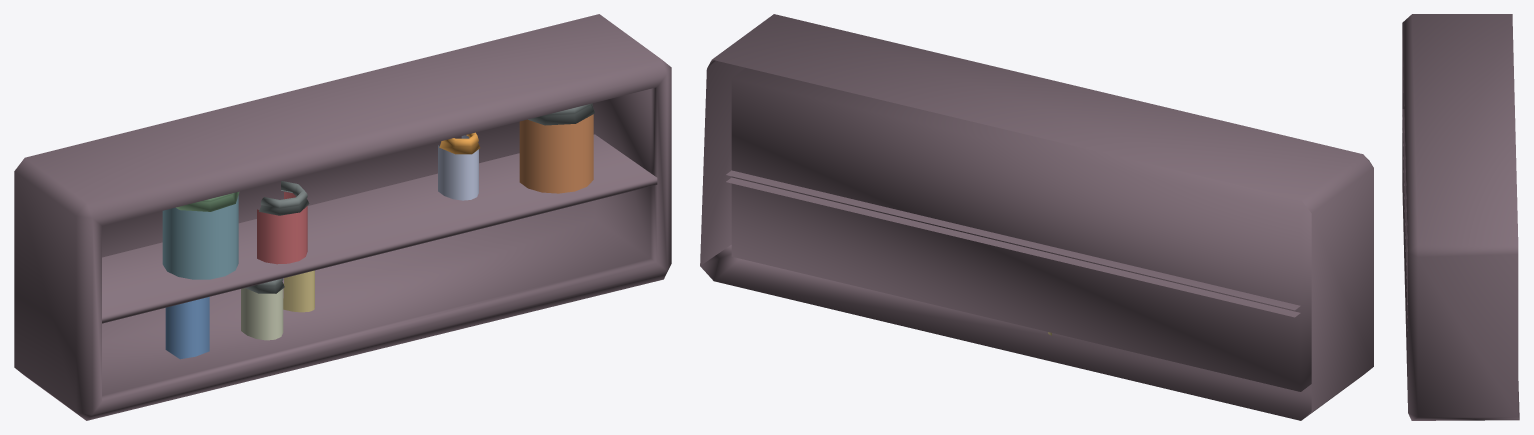
File: Repisa.glb
3 renders of one model, left to right at view 1: azimuth 30°, elevation 25°; view 2: azimuth 150°, elevation 25°; view 3: azimuth 270°, elevation 25°, orthographic. The views are drawn at different scales.
Visible parts, largest first — view 1: Repisa; view 2: Repisa; view 3: Repisa.
Boxes of the visible parts, x1,y1,x2,y2 form: Repisa: (14,14,671,420); Repisa: (700,14,1373,420); Repisa: (1402,14,1519,420).
Bounding box in the file's own units: 4.24 × 1.47 × 0.8806.
